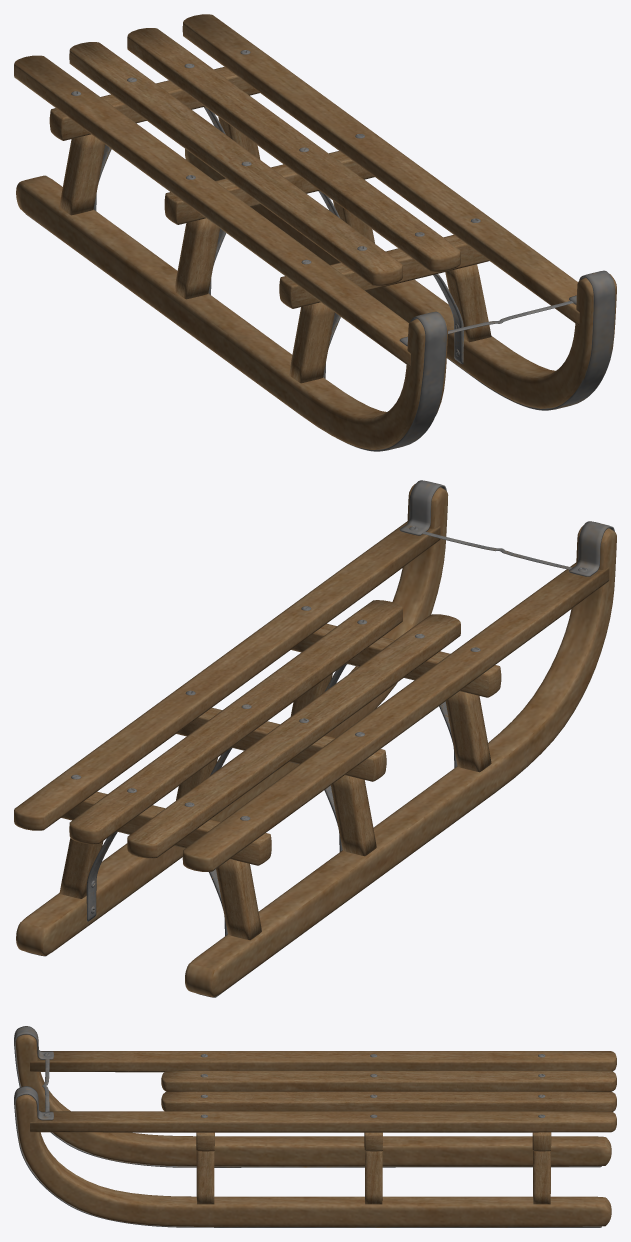
The model's file is sled.obj.
3 views of the same model, one above another, from view 1: azimuth 30°, elevation 25°; view 2: azimuth 150°, elevation 25°; view 3: azimuth 270°, elevation 25° (orthographic). The views are drawn at different scales.
Parts seen in each view (by area): view 1: Sled_LowPoly_Baked; view 2: Sled_LowPoly_Baked; view 3: Sled_LowPoly_Baked.
Part boxes in pixels (box(x1,y1,x2,y2)): Sled_LowPoly_Baked: box(14, 14, 616, 451); Sled_LowPoly_Baked: box(14, 480, 616, 997); Sled_LowPoly_Baked: box(14, 1026, 616, 1227).
Bounding box in the file's own units: 0.2972 × 0.2466 × 1.
1 material, 1 textured.
